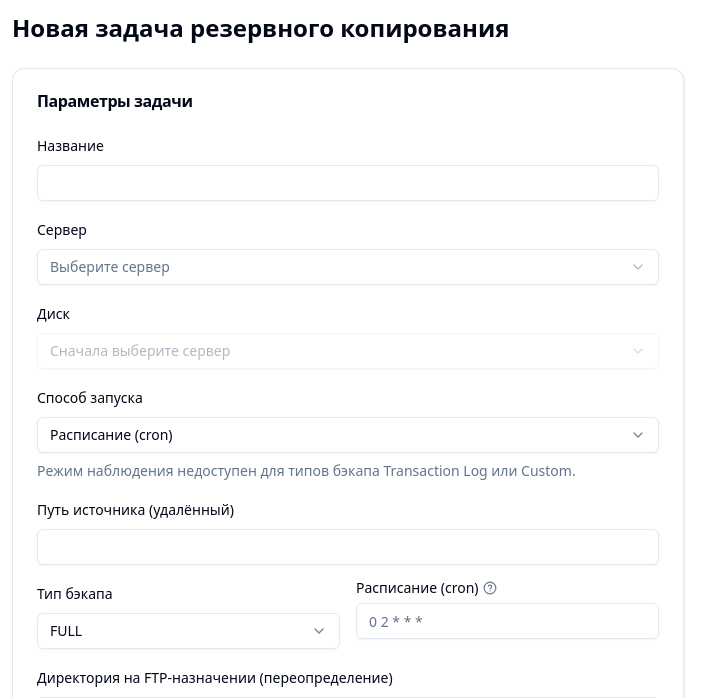
Test: JobFormPage -- create mode, trigger_mode conditional rendering › switching to WATCH hides source_path/schedule_cron and shows watch_directory
Click the dropdown named "Способ запуска" at (111, 434), box [37, 417, 659, 453]
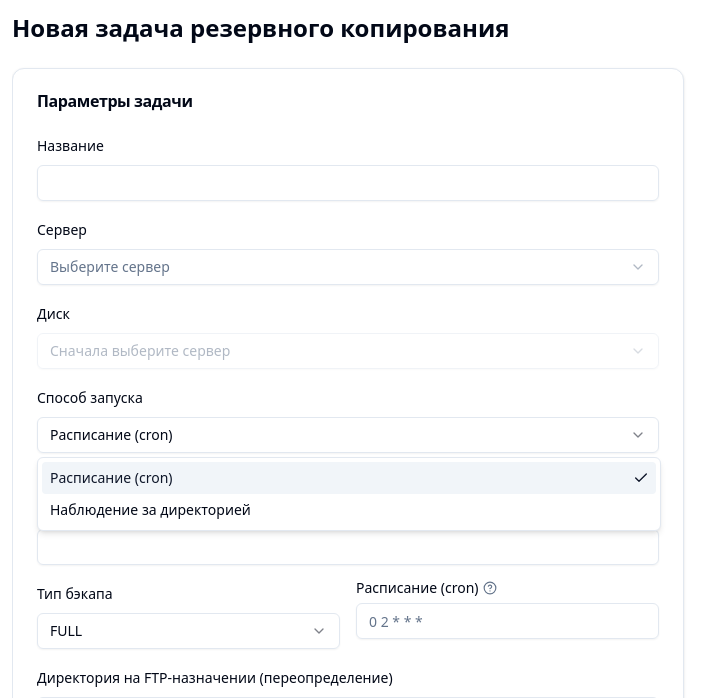
Click the option "Наблюдение за директорией" at (150, 510), box [50, 500, 251, 519]
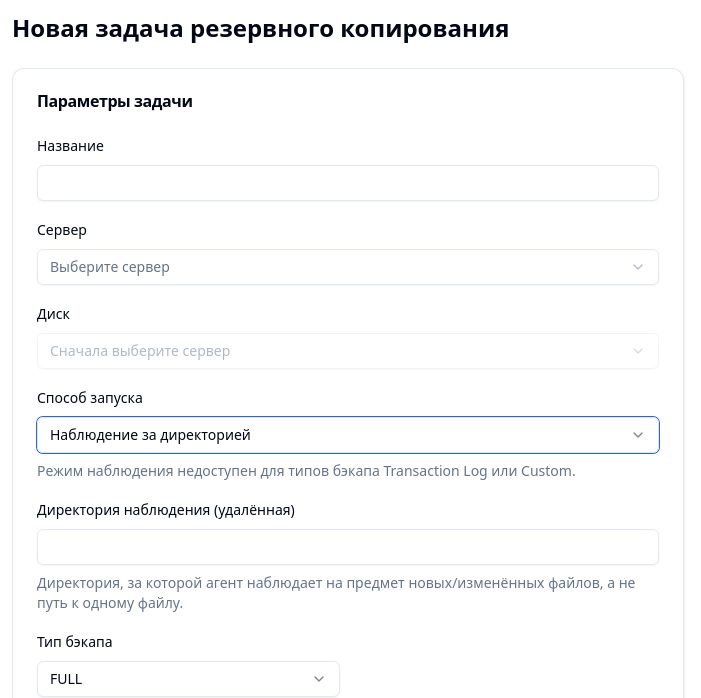
Expected: the field labelled "Директория наблюдения (удалённая)" is shown, [37, 529, 659, 565]
Expected: the label labelled "Путь источника (удалённый)" is gone
Expected: the dropdown labelled "Расписание (cron)" is gone
